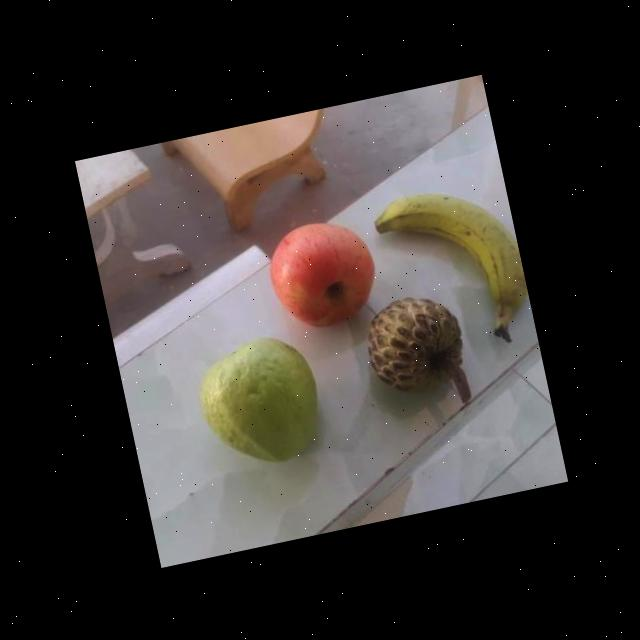Sakya fruit: (355, 287, 472, 407)
apple: (252, 206, 385, 334)
banana: (367, 168, 530, 338)
guava: (183, 334, 324, 476)
